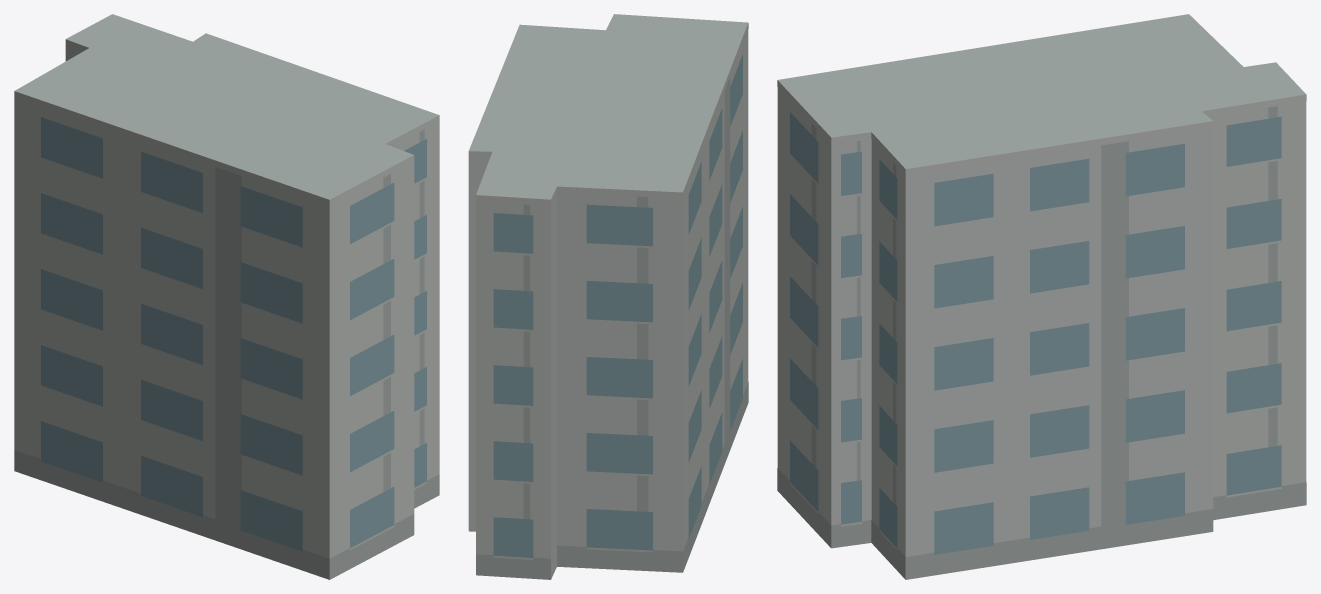
Rendered from survey-upis-33008674.glb.
The picture shows the model from 3 angles, left to right: view 1: azimuth 30°, elevation 25°; view 2: azimuth 150°, elevation 25°; view 3: azimuth 270°, elevation 25°; orthographic projection. The views are drawn at different scales.
Parts seen in each view (by area): view 1: survey-upis-33008674.tmp; view 2: survey-upis-33008674.tmp; view 3: survey-upis-33008674.tmp.
Boxes of the visible parts, x1=… form: survey-upis-33008674.tmp: x1=14, y1=14, x2=439, y2=579; survey-upis-33008674.tmp: x1=468, y1=14, x2=748, y2=579; survey-upis-33008674.tmp: x1=777, y1=14, x2=1306, y2=579.
Bounding box in the file's own units: 11.76 × 14.5 × 16.94.
